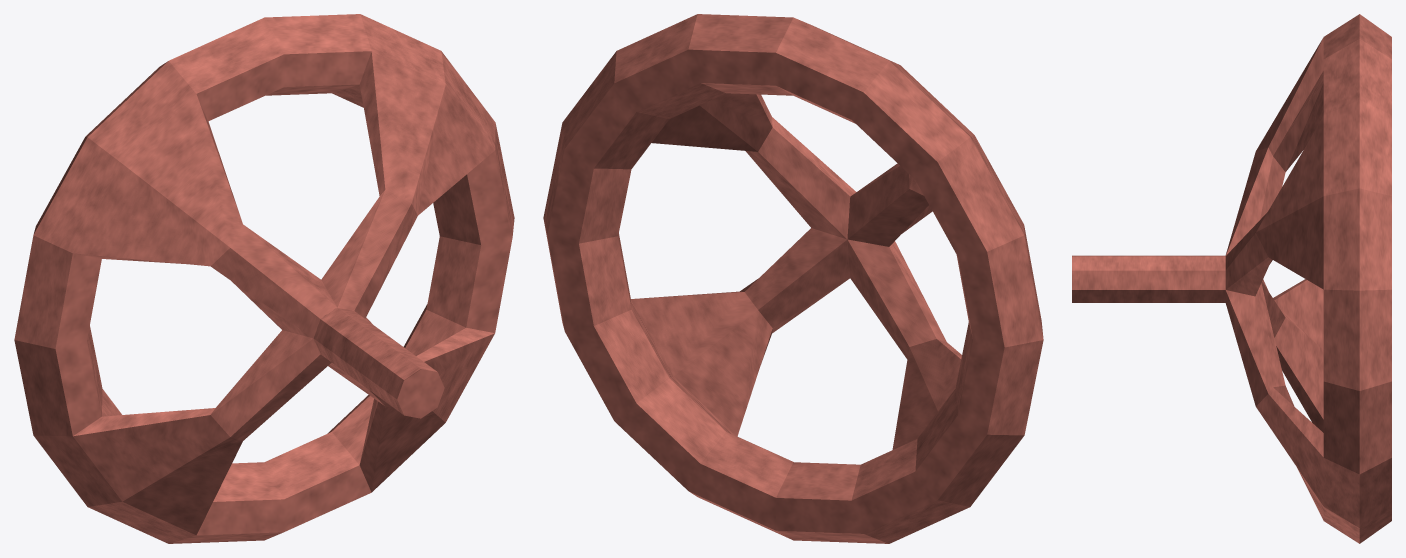
The model's file is SpecialKey-Shaft.fbx.
The picture shows the model from 3 angles, left to right: view 1: azimuth 30°, elevation 25°; view 2: azimuth 150°, elevation 25°; view 3: azimuth 270°, elevation 25°; orthographic projection. The views are drawn at different scales.
Parts seen in each view (by area): view 1: Key-Shaft; view 2: Key-Shaft; view 3: Key-Shaft.
Boxes of the visible parts, x1,y1,x2,y2 form: Key-Shaft: (14, 14, 514, 543); Key-Shaft: (543, 14, 1043, 543); Key-Shaft: (1072, 14, 1391, 543).
Size of the model in its own units: 48.98 by 48.94 by 29.5.
Materials: 1 (1 with a texture image).
